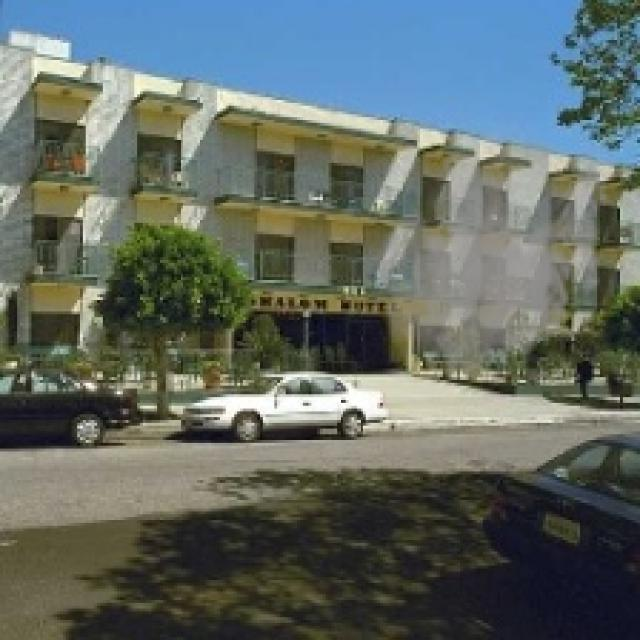smoke: (360, 120, 614, 389)
